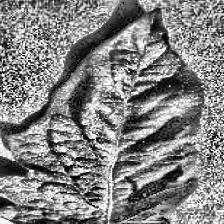Blossom Blight: (82, 110, 129, 147), (88, 63, 131, 100), (171, 84, 202, 114), (147, 143, 188, 165)
